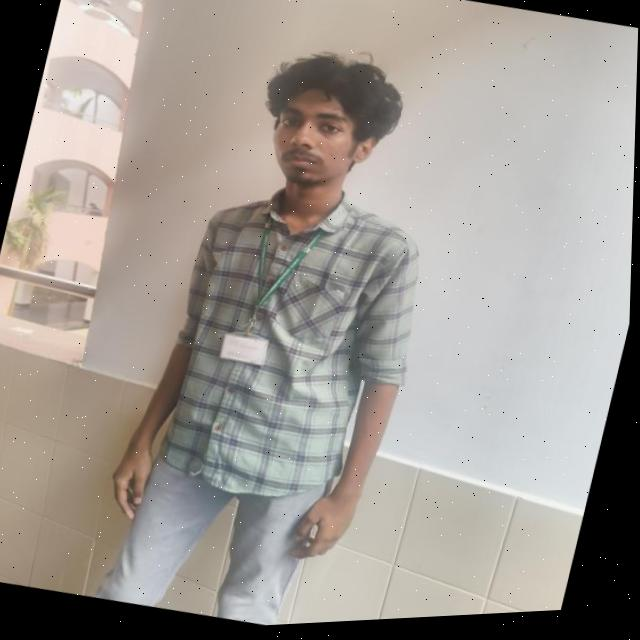id_card: (216, 210, 323, 383)
